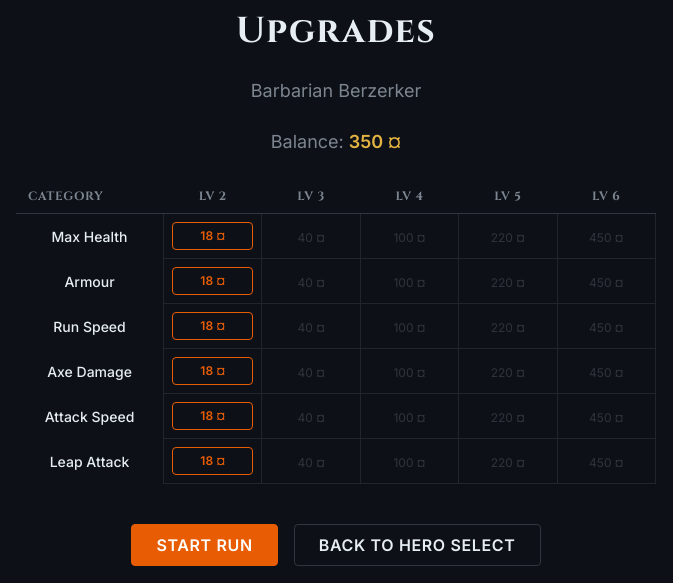
Scenario: UpgradeScreen › purchasing an upgrade › deducts cost from currency after purchase
Click the button named "upgrade max health to level 2" at [213, 236], box x1=172 y1=222 x2=254 y2=250
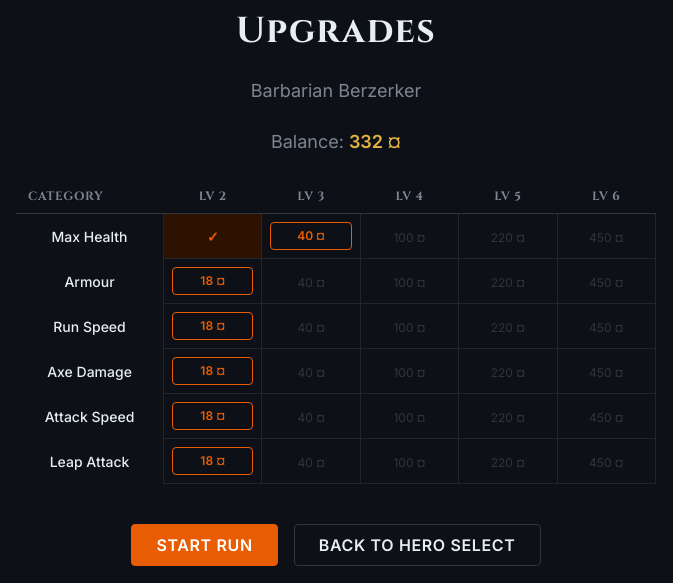
Result: the text "332 ¤" is shown at x1=349 y1=131 x2=401 y2=152
